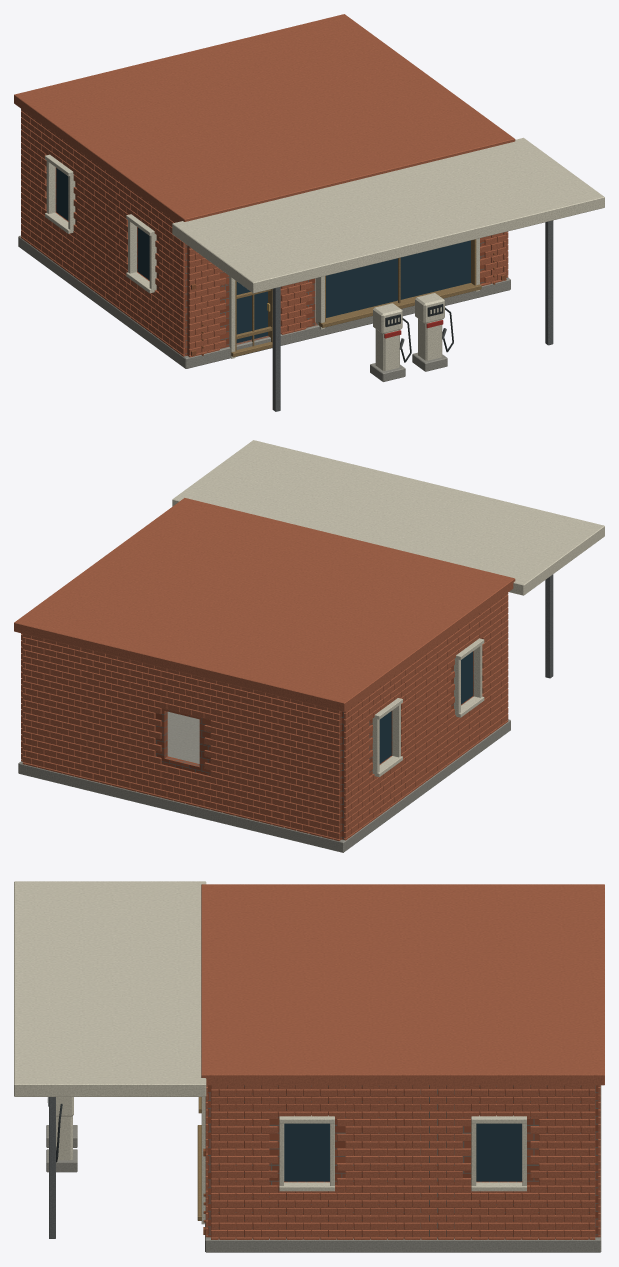
File: GASA2_lod0.glb
3 renders of one model, top to bottom at view 1: azimuth 30°, elevation 25°; view 2: azimuth 150°, elevation 25°; view 3: azimuth 270°, elevation 25°, orthographic. The views are drawn at different scales.
Visible parts, largest first — view 1: GASA2_LOD0; view 2: GASA2_LOD0; view 3: GASA2_LOD0.
Boxes of the visible parts, x1,y1,x2,y2 form: GASA2_LOD0: (14, 14, 604, 411); GASA2_LOD0: (14, 440, 604, 852); GASA2_LOD0: (14, 881, 604, 1252).
Size of the model in its own units: 10 by 4.12 by 12.3.
14 materials, 11 textured.
